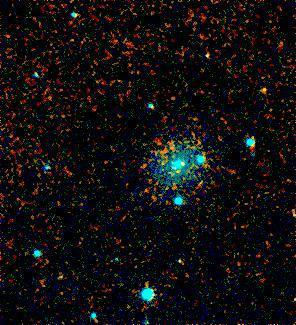star: (248, 75, 278, 105)
